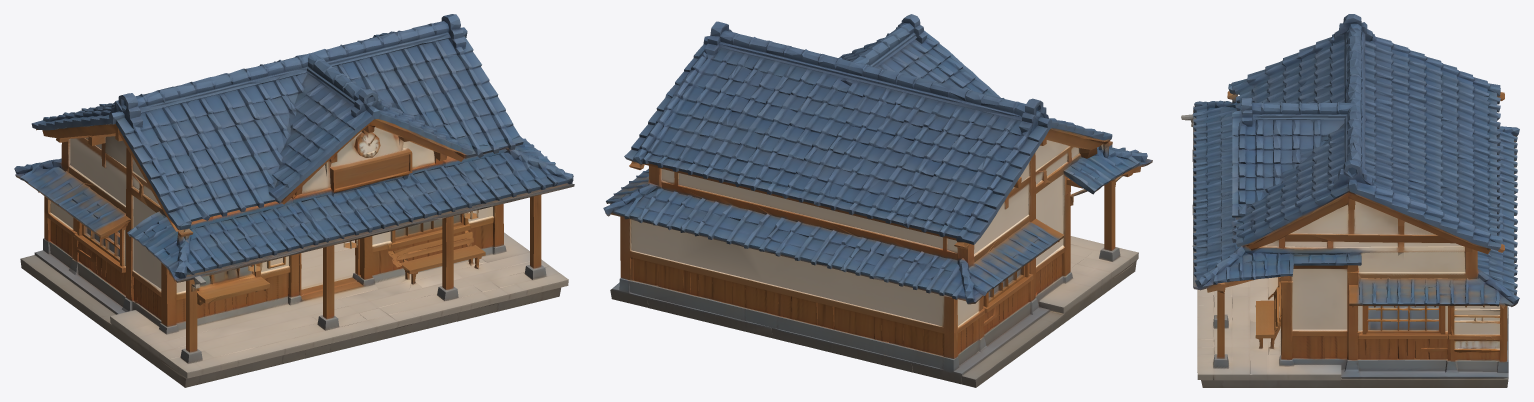
File: source.glb
3 views of the same model, side by side, from view 1: azimuth 30°, elevation 25°; view 2: azimuth 150°, elevation 25°; view 3: azimuth 270°, elevation 25° (orthographic). The views are drawn at different scales.
Parts seen in each view (by area): view 1: model; view 2: model; view 3: model.
Part boxes in pixels (bbox=[...]): model: bbox=[14, 14, 574, 387]; model: bbox=[603, 14, 1152, 387]; model: bbox=[1181, 14, 1519, 387].
Bounding box in the file's own units: 1.9 × 1.04 × 1.5.
1 material, 1 textured.
